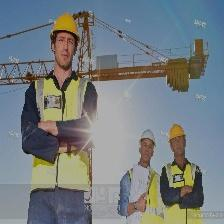Person: (18, 10, 100, 224), (160, 124, 208, 224), (117, 128, 162, 224)
helmet: (50, 14, 79, 37), (169, 124, 185, 142), (141, 129, 158, 143)
vest: (35, 82, 90, 195), (161, 164, 204, 224), (136, 166, 162, 224)
